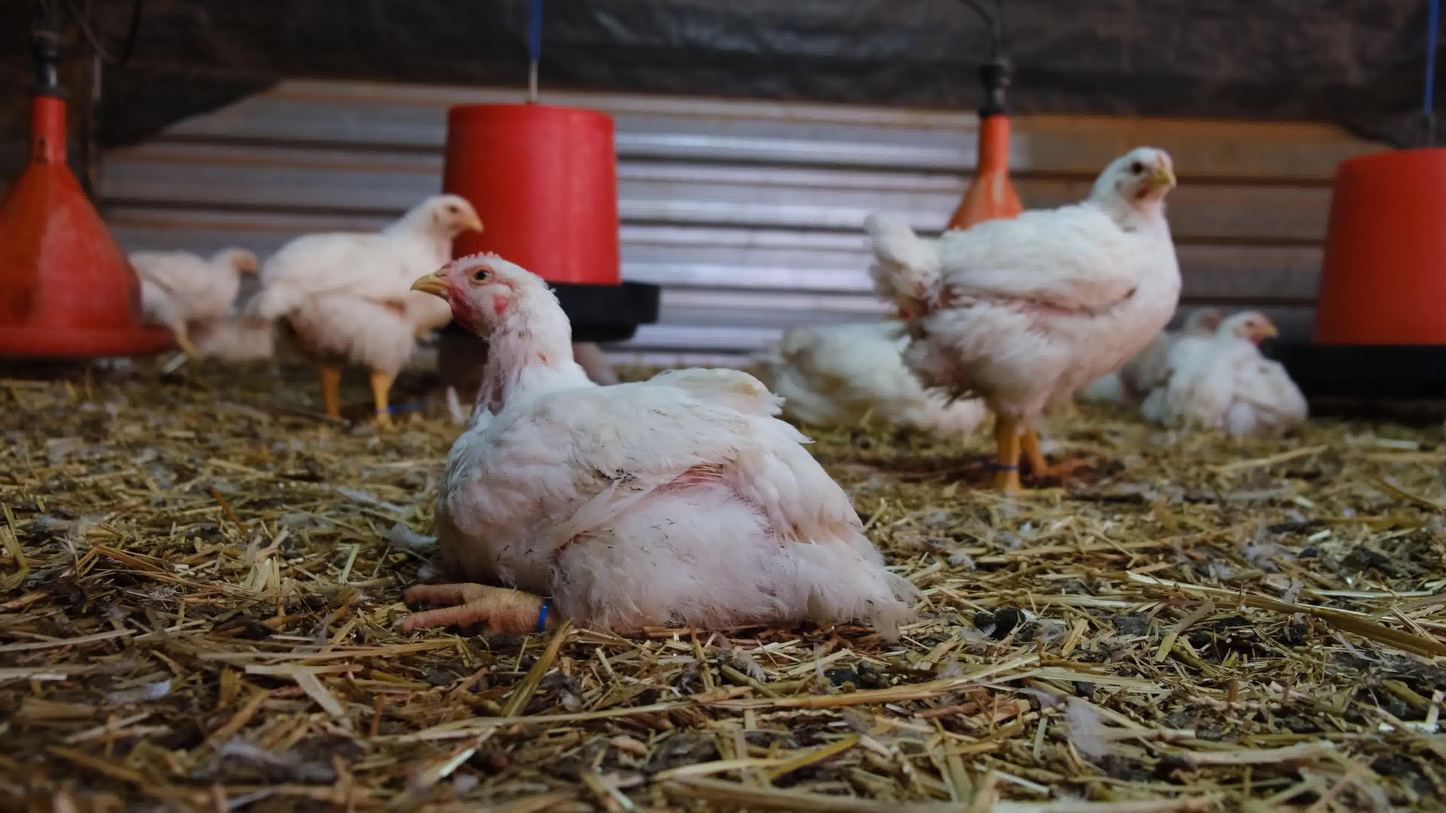AbNormal: (394, 249, 923, 637), (752, 317, 1010, 428), (1137, 311, 1316, 432), (1114, 301, 1234, 417), (161, 300, 294, 380), (780, 38, 783, 39)
Normal: (869, 143, 1187, 495), (260, 189, 486, 434), (121, 245, 265, 360)
